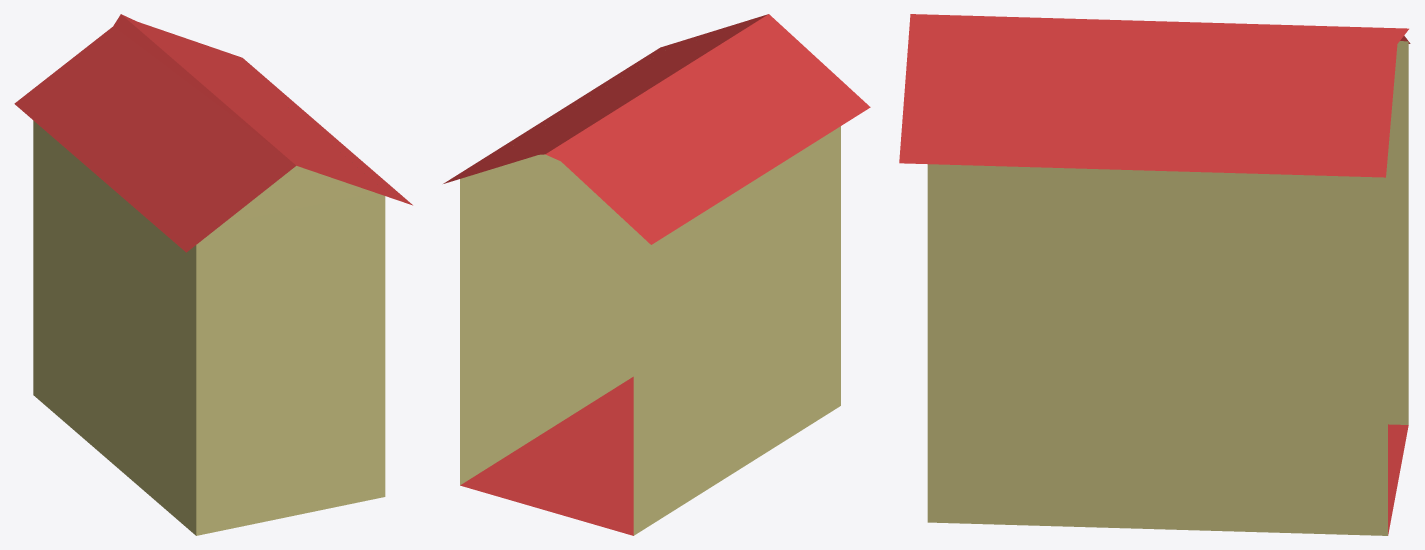
3 renders of one model, left to right at view 1: azimuth 30°, elevation 25°; view 2: azimuth 150°, elevation 25°; view 3: azimuth 270°, elevation 25°, orthographic. The views are drawn at different scales.
Size of the model in its own units: 6.54 by 9.57 by 9.29.
